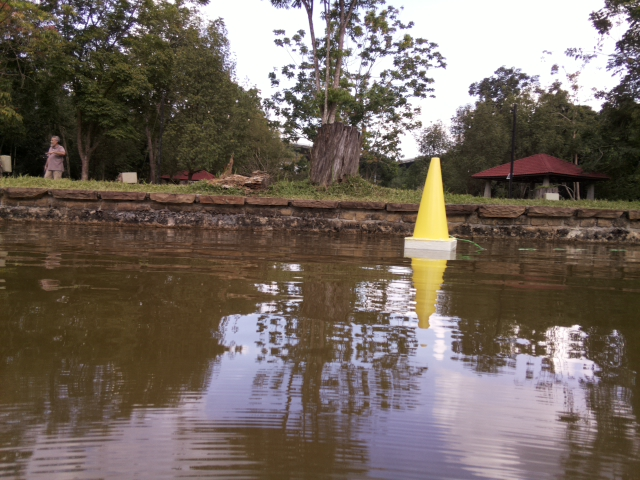checkpoint: (401, 156, 458, 251)
